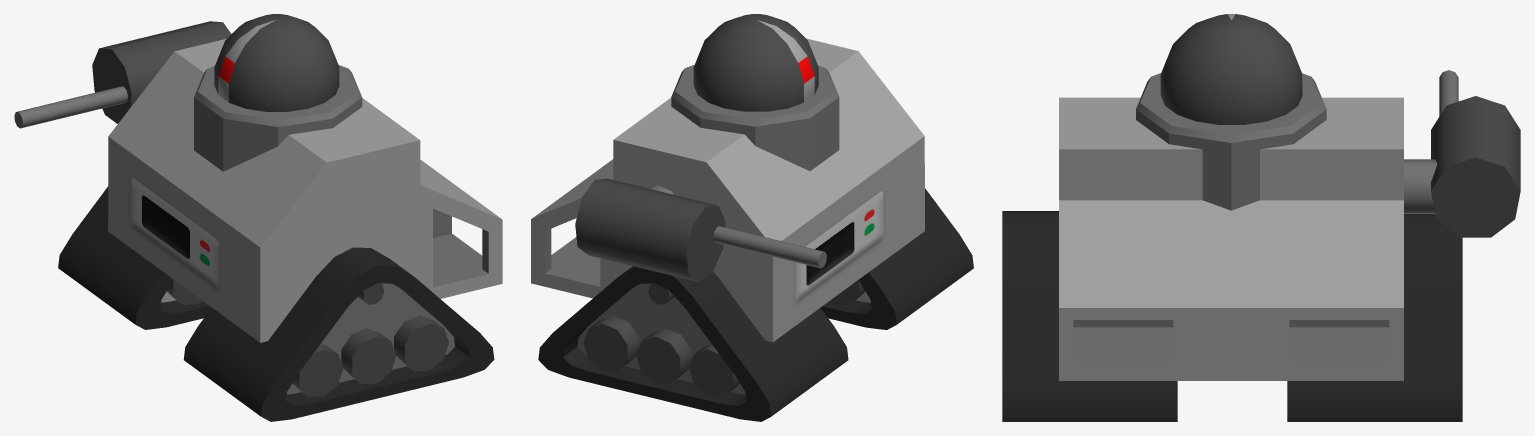
File: EnemyJoe_Model.FBX
3 views of the same model, side by side, from view 1: azimuth 30°, elevation 25°; view 2: azimuth 150°, elevation 25°; view 3: azimuth 270°, elevation 25° (orthographic). The views are drawn at different scales.
Visible parts, largest first — view 1: Cylinder002; view 2: Cylinder002; view 3: Cylinder002.
Boxes of the visible parts, left/top/right/bottom form: Cylinder002: left=14, top=14, right=502, bottom=421; Cylinder002: left=531, top=14, right=973, bottom=421; Cylinder002: left=1002, top=14, right=1520, bottom=421.
Size of the model in its own units: 58.19 by 73.84 by 54.33.
1 material, 1 textured.
